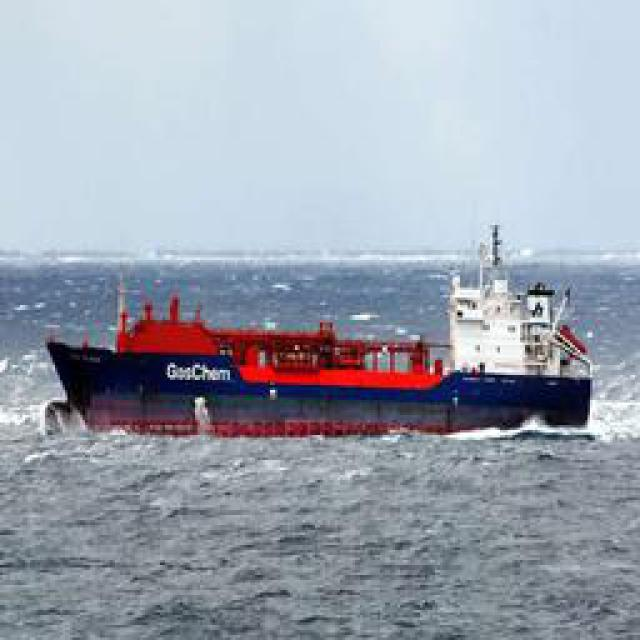Ship: (37, 260, 600, 445)
